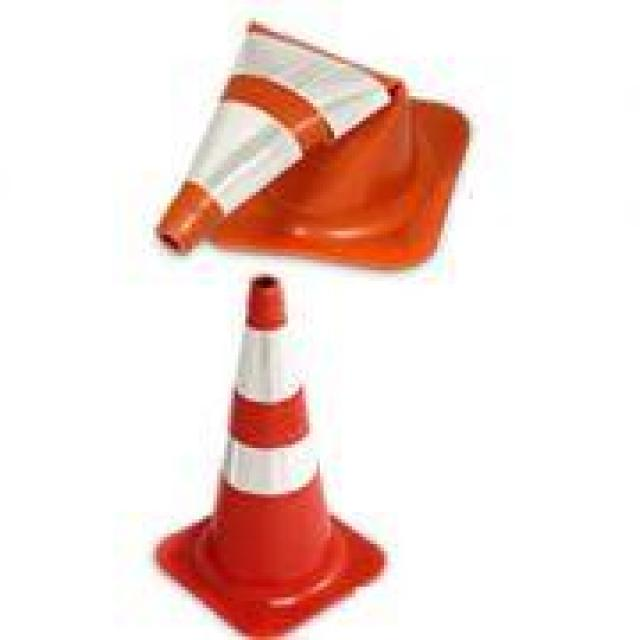cone: (156, 274, 394, 640)
